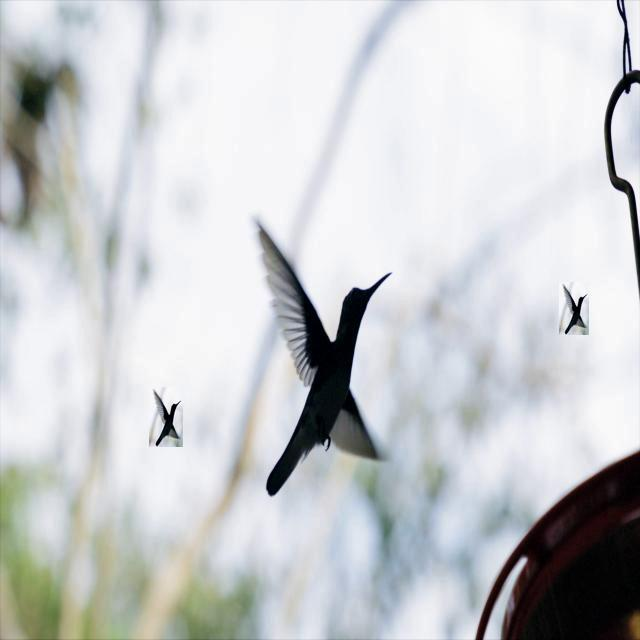bird: (250, 216, 396, 504), (149, 388, 186, 448), (558, 284, 596, 336)
